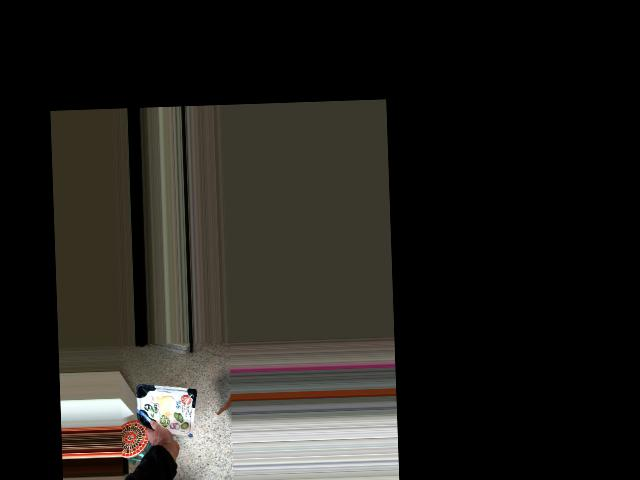cheese: (144, 399, 197, 447)
